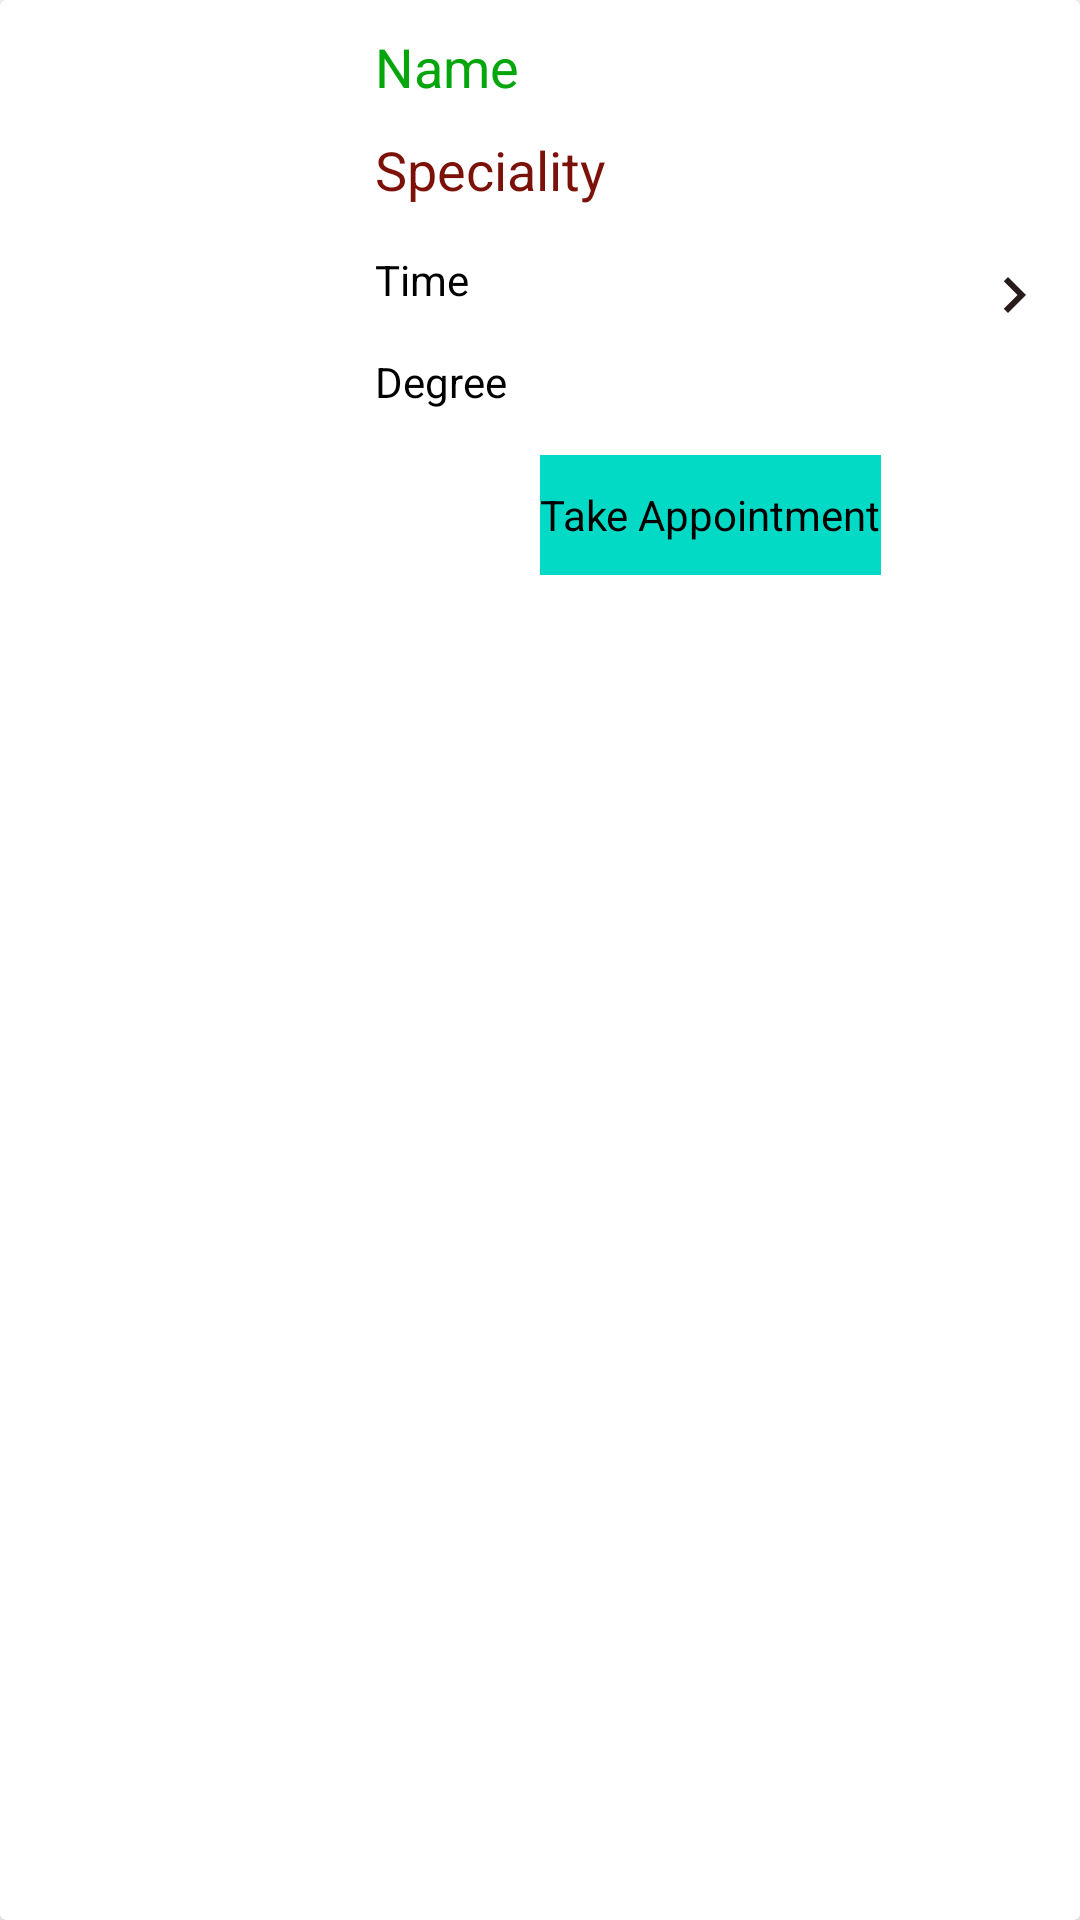

Icon bounding boxes for this 1080x1920 phone screenshot, format detection(x1, y1, x2, y2):
navigate next: detection(1004, 277, 1026, 313)
